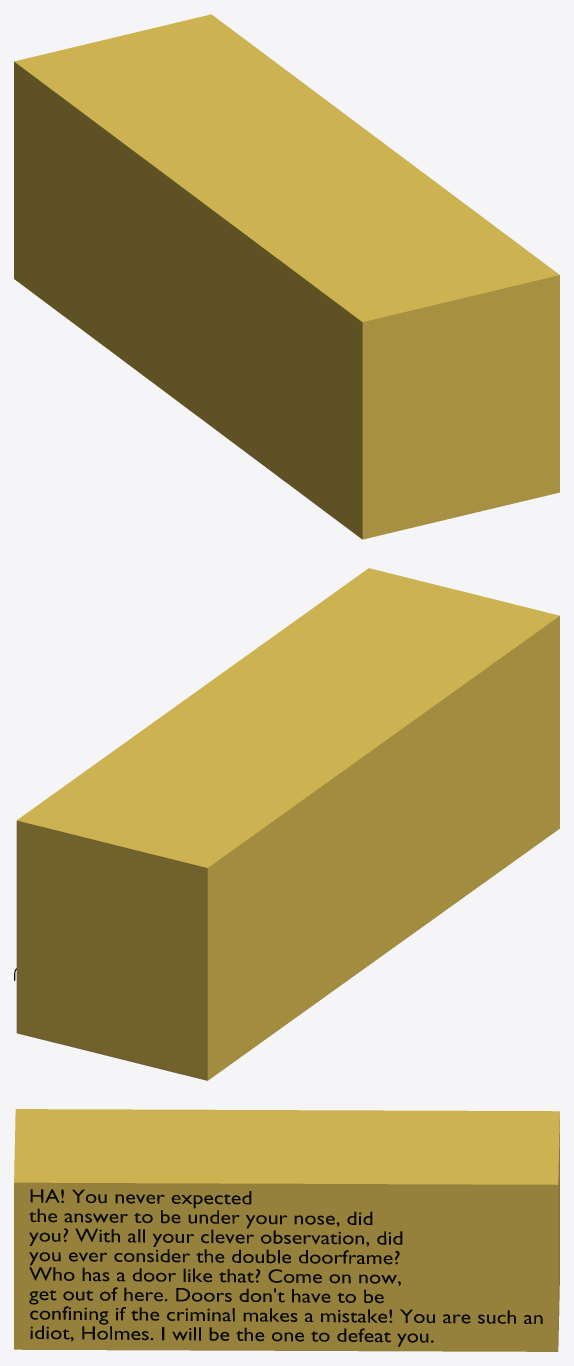
File: idiot message.fbx
3 renders of one model, top to bottom at view 1: azimuth 30°, elevation 25°; view 2: azimuth 150°, elevation 25°; view 3: azimuth 270°, elevation 25°, orthographic. The views are drawn at different scales.
Parts seen in each view (by area): view 1: Cube; view 2: Cube; view 3: Cube, Text.
Part boxes in pixels (x1,y1,x2,y2): Cube: (14,14,559,539); Cube: (16,568,559,1080); Cube: (14,1109,559,1351); Text: (29,1189,542,1346).
Bounding box in the file's own units: 219 × 212 × 627.
